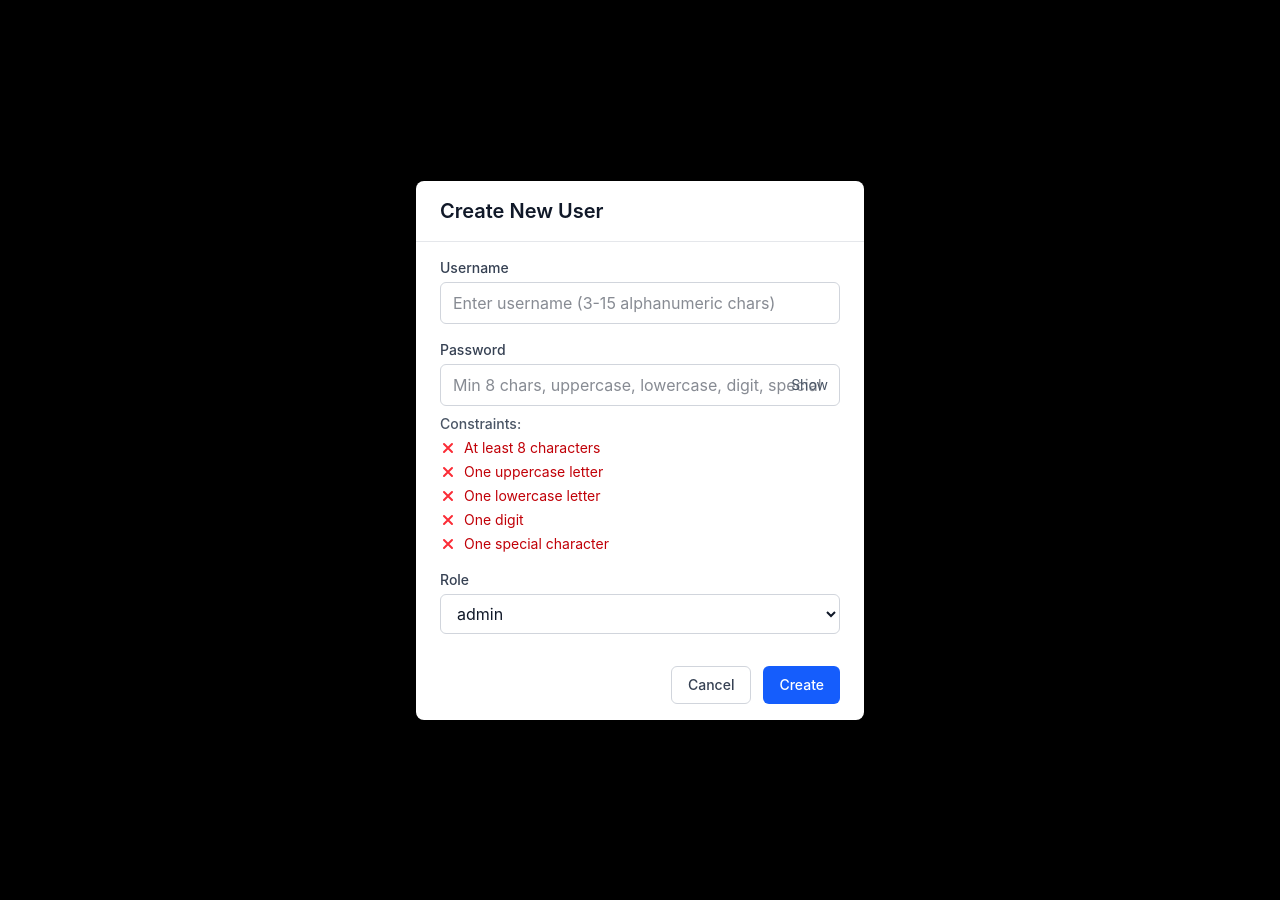
it: CreateUserModal › Form Submission › should display error message on submission failure
In the field labelled "Username": (640, 302) [440, 282, 840, 324], type "existinguser"
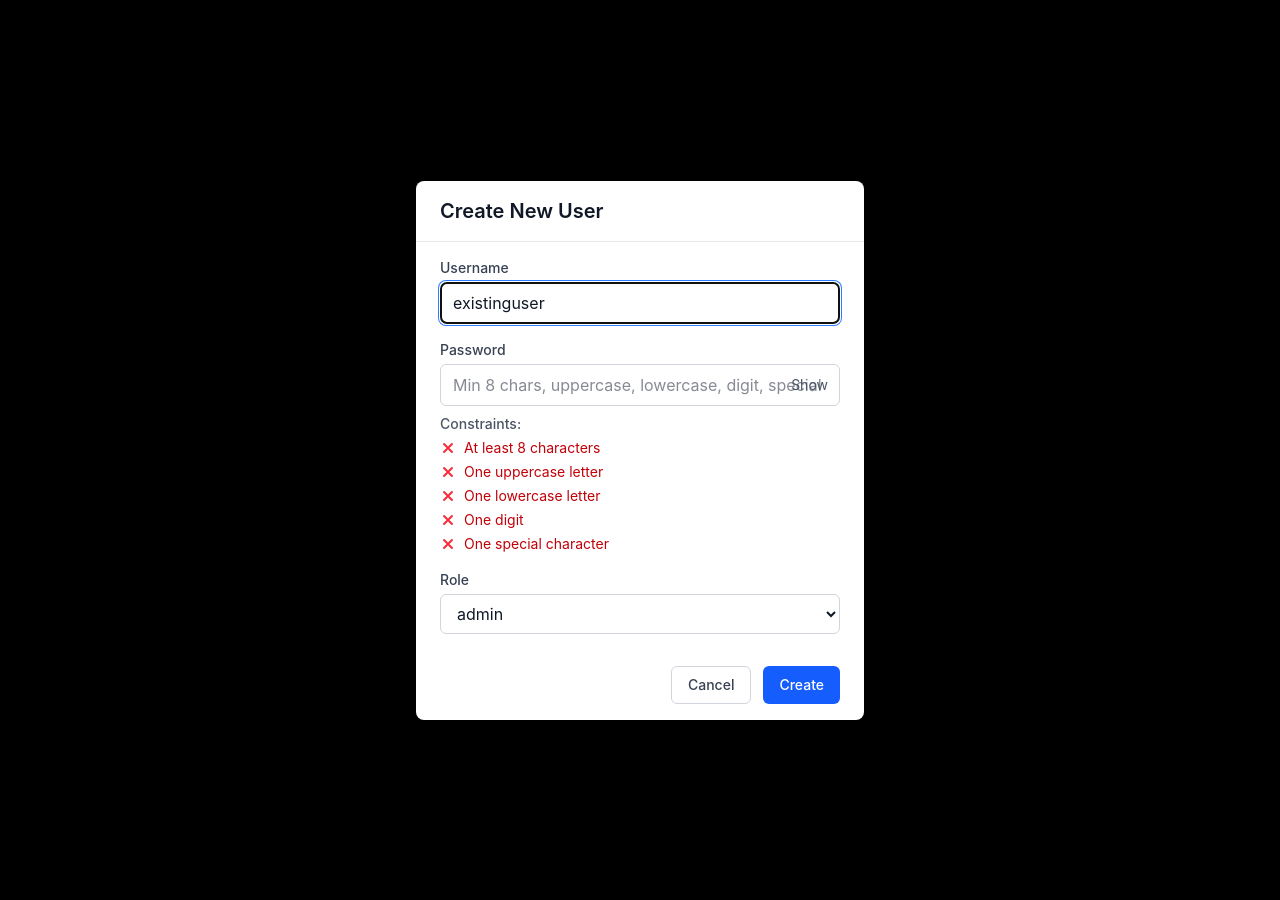
In the password field labelled "Password": (640, 384) [440, 364, 840, 406], type "SecurePass123!"
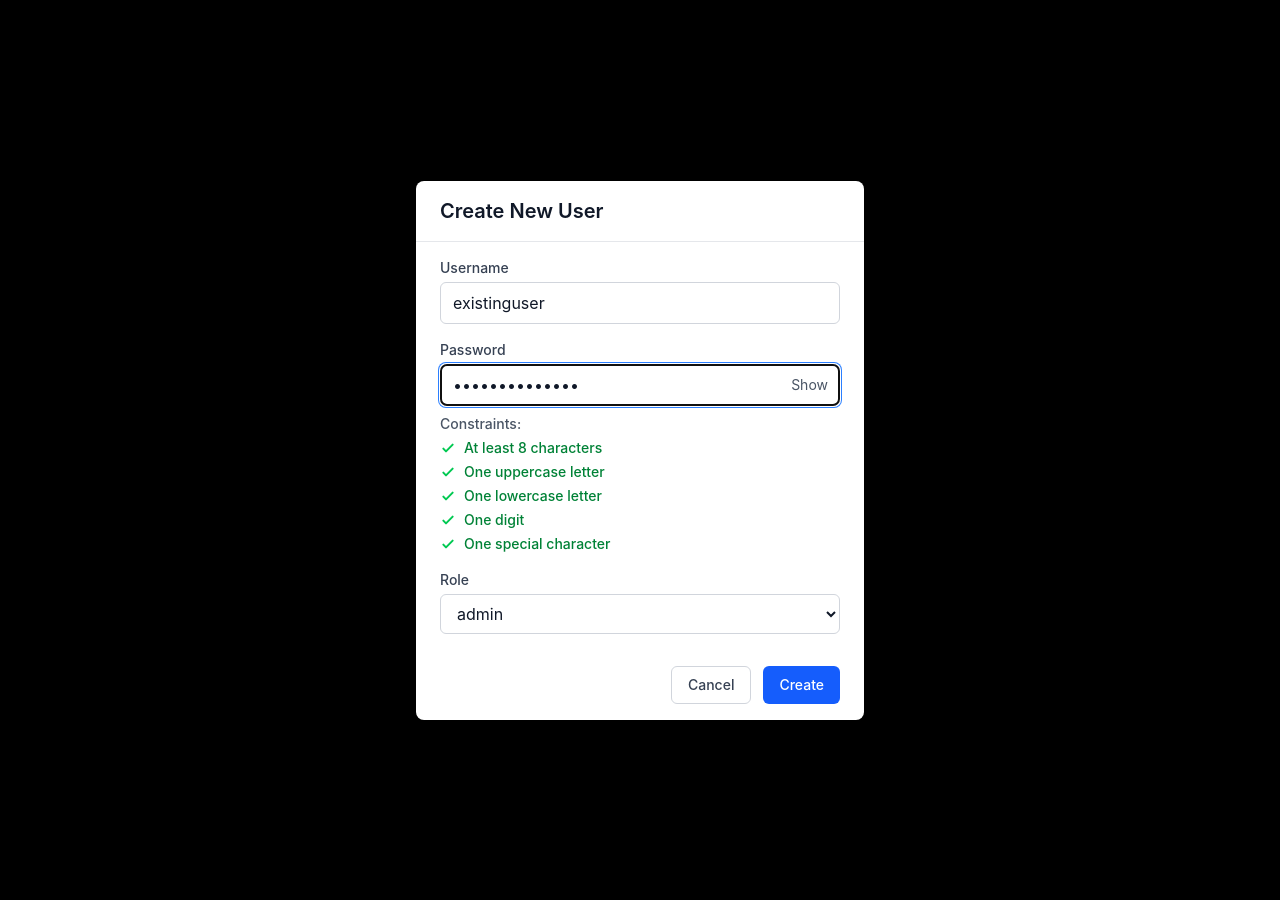
Click the button "Create": (802, 684) [763, 666, 840, 704]
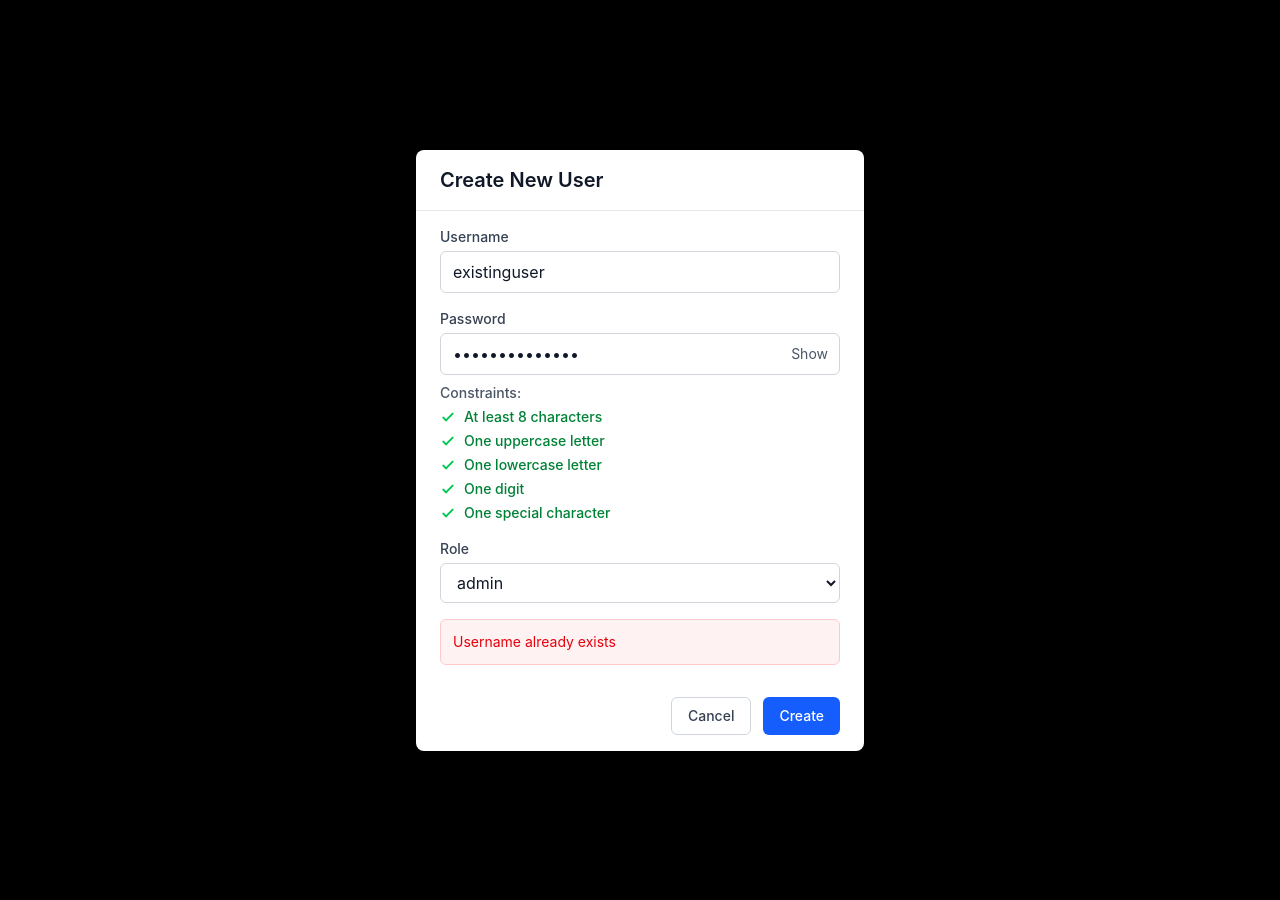
Now the text "Username already exists" is shown, box [453, 632, 616, 650]
